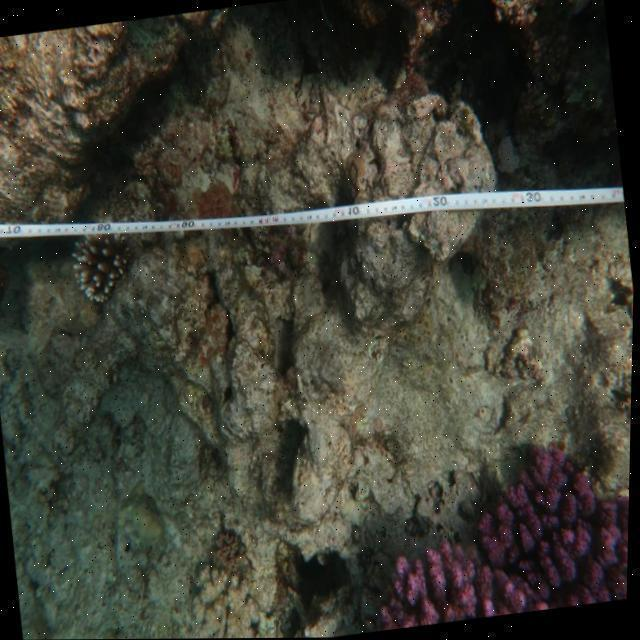Healthy Coral: (359, 421, 634, 633)
